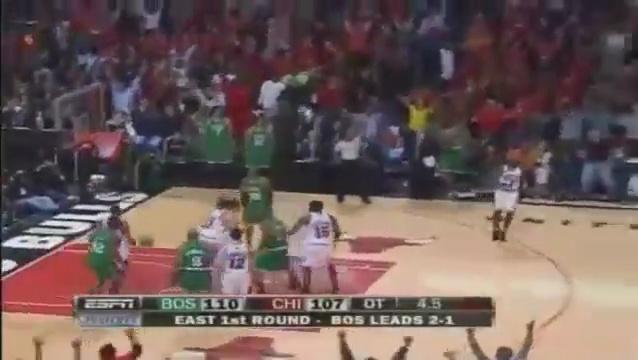Backboard: (58, 88, 106, 144)
Basket: (85, 127, 121, 160)
Person: (291, 199, 343, 294), (248, 206, 296, 294), (96, 200, 138, 284), (490, 152, 530, 240), (83, 208, 126, 289), (235, 163, 276, 241), (217, 226, 254, 295), (174, 227, 212, 294), (202, 193, 241, 247)
Referee: (336, 116, 374, 205), (461, 319, 537, 360)
person: (335, 333, 417, 360), (103, 327, 146, 360)
